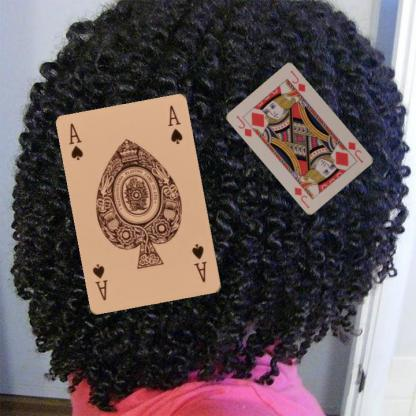As: (190, 242, 209, 284), (67, 121, 85, 162)
Jd: (233, 113, 254, 138), (346, 139, 364, 165)
